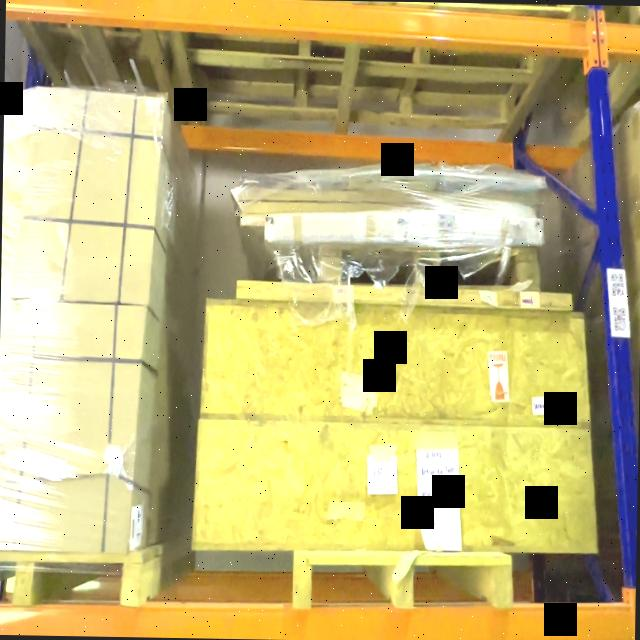box: (191, 417, 598, 551), (200, 303, 591, 427), (9, 92, 164, 310)
